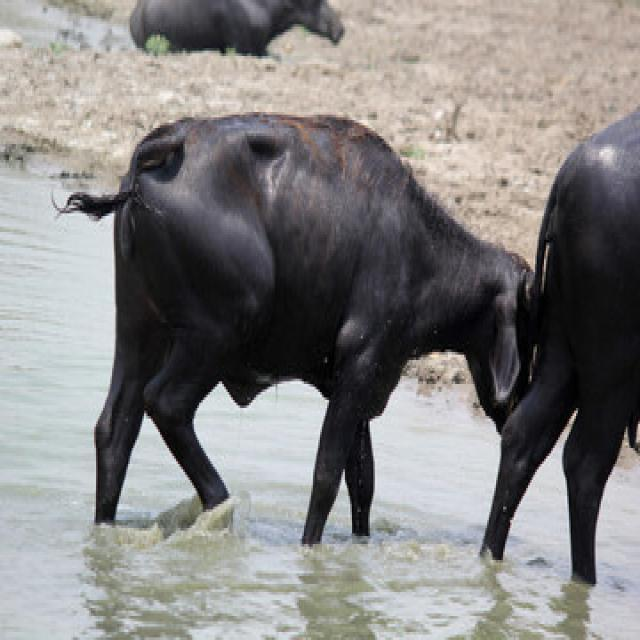Buffalo: (67, 112, 538, 538)
